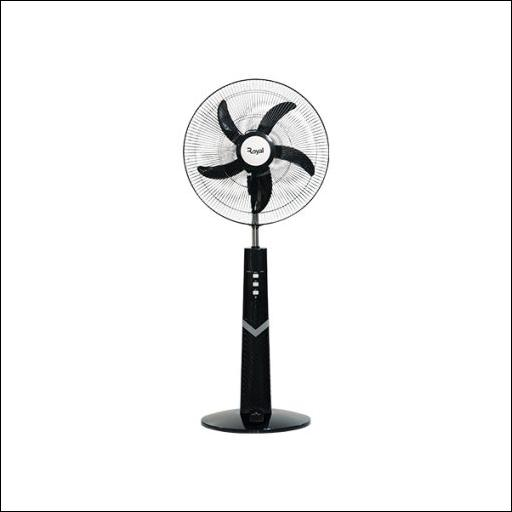Fan: (182, 78, 329, 225)
